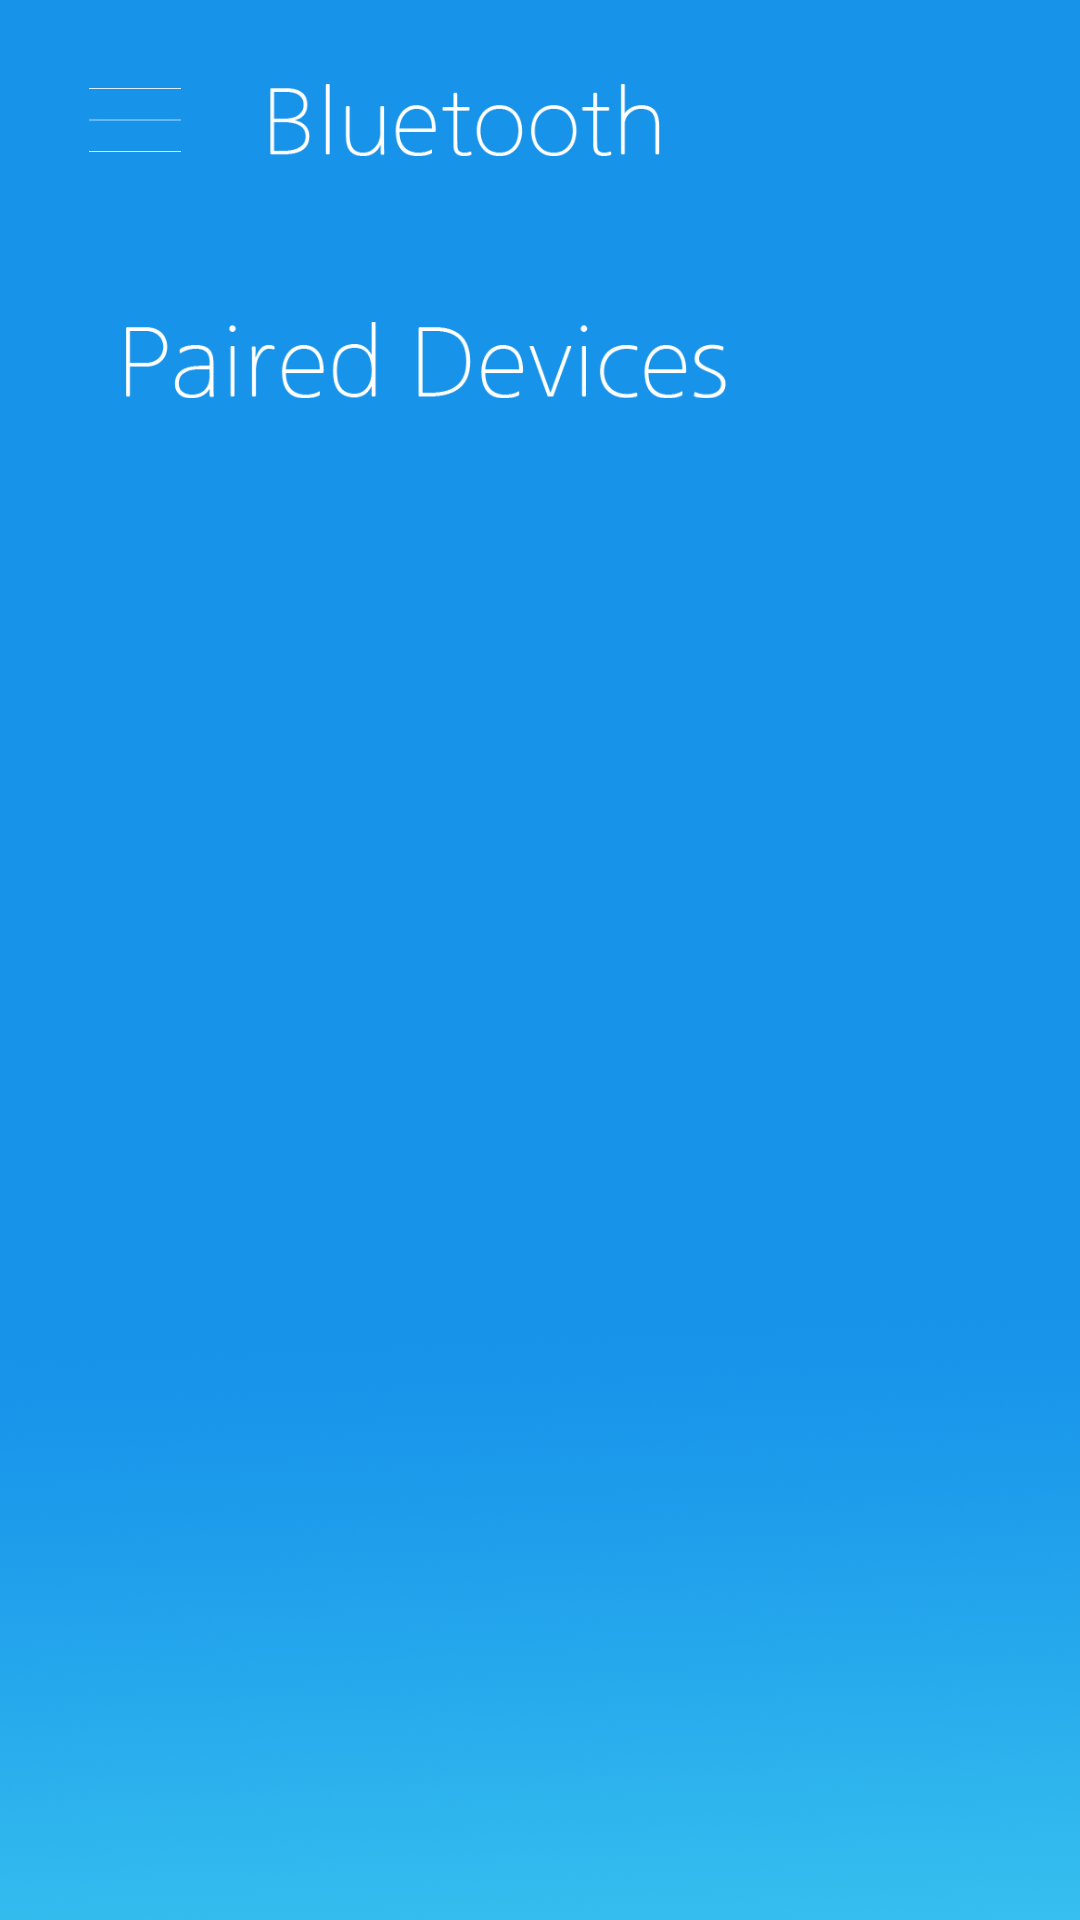

Named icons in this screenshot (1080px x 1920px) and their centers, (x,y):
menubar: (135,120)
